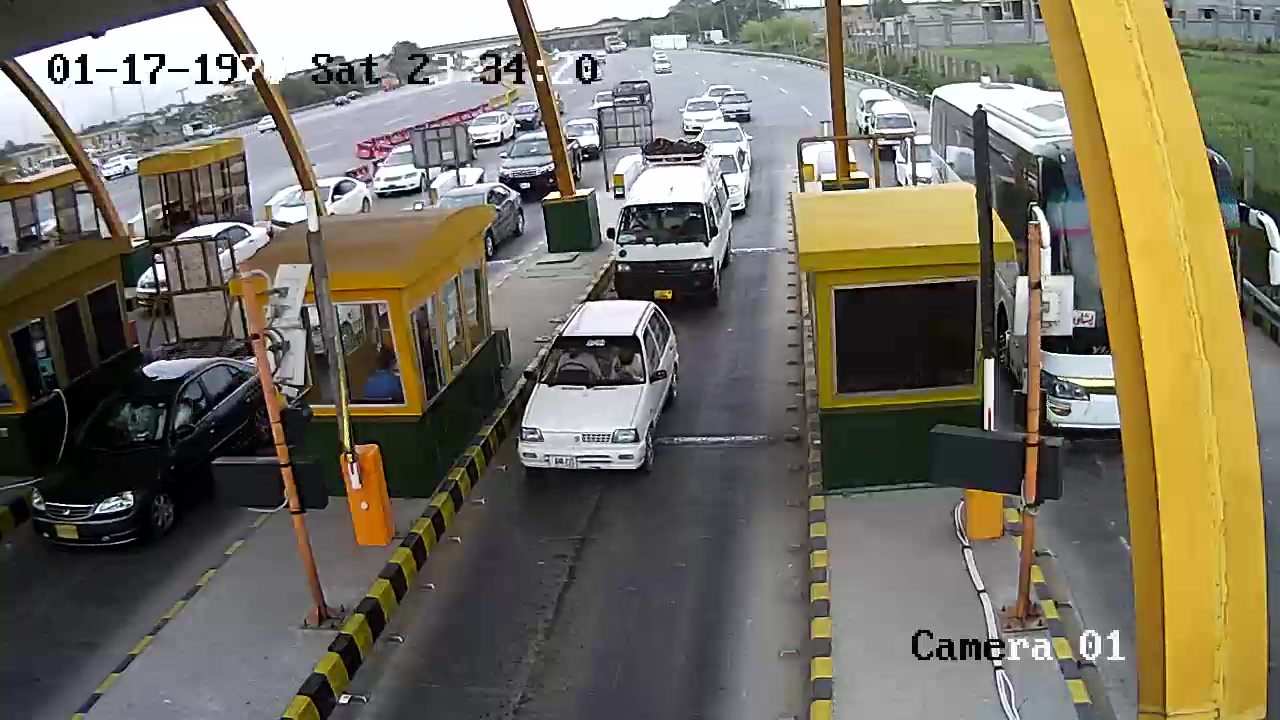F1: (514, 297, 685, 490)
